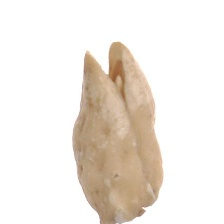L1: (85, 38, 126, 87), (126, 200, 155, 220)
L2: (69, 41, 165, 223)
